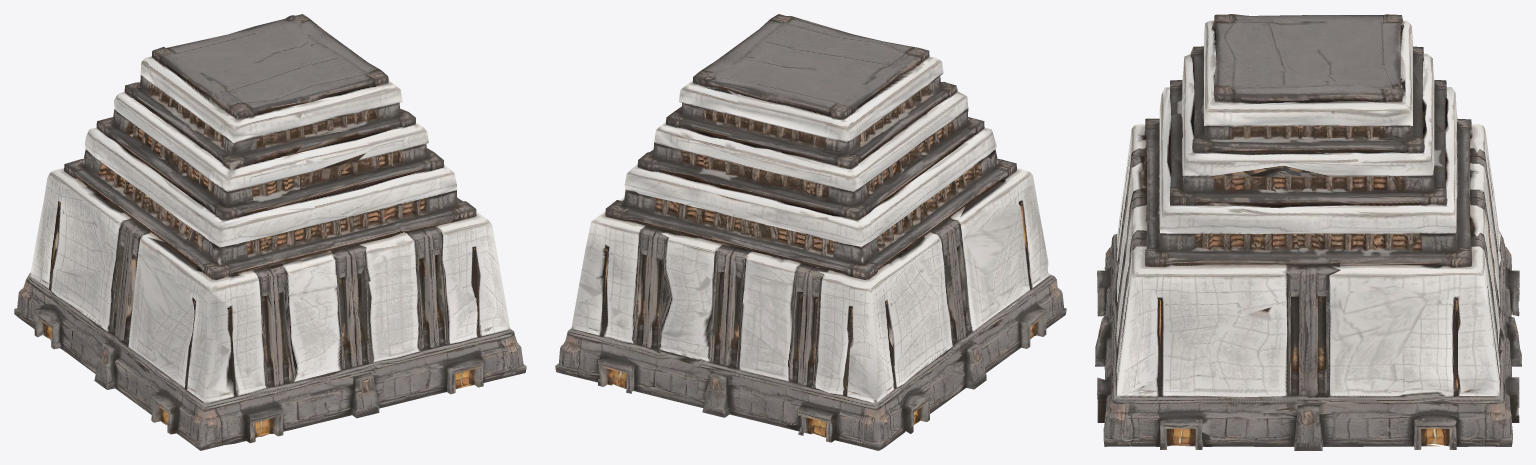
The model's file is steppedWing.glb.
3 views of the same model, side by side, from view 1: azimuth 30°, elevation 25°; view 2: azimuth 150°, elevation 25°; view 3: azimuth 270°, elevation 25° (orthographic). The views are drawn at different scales.
Parts seen in each view (by area): view 1: steppedWing; view 2: steppedWing; view 3: steppedWing.
Boxes of the visible parts, x1,y1,x2,y2 form: steppedWing: (14, 14, 526, 450); steppedWing: (555, 14, 1066, 450); steppedWing: (1095, 14, 1521, 450).
Bounding box in the file's own units: 40 × 31.79 × 39.96.
1 material, 1 textured.
